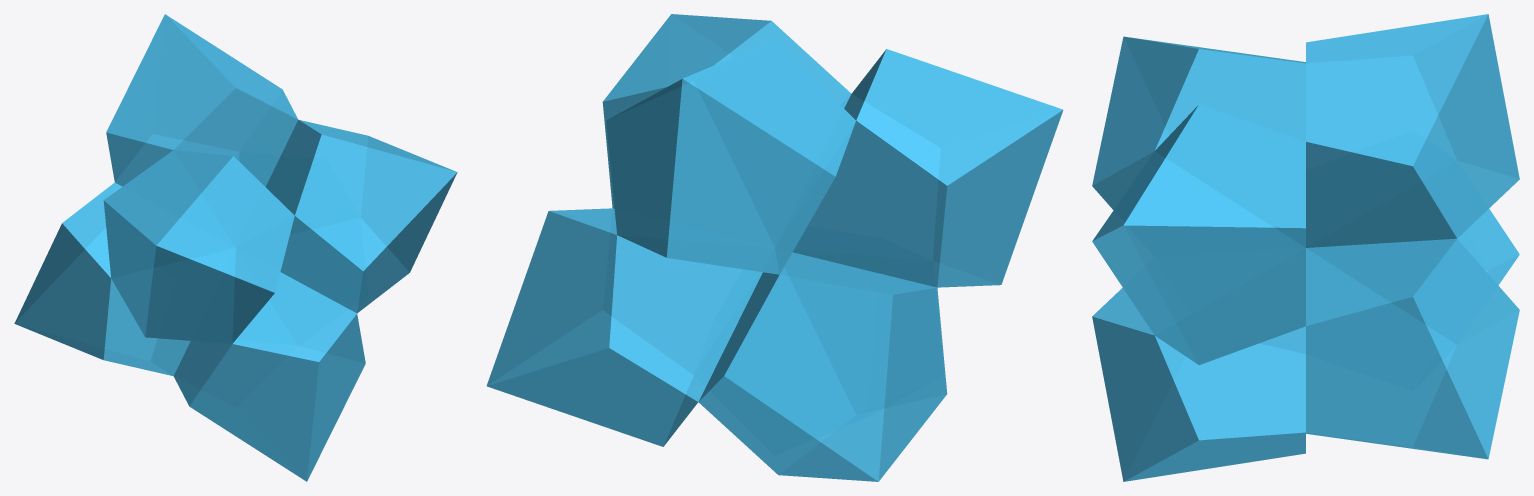
Rendered from Cuboctahedron.obj.
3 renders of one model, left to right at view 1: azimuth 30°, elevation 25°; view 2: azimuth 150°, elevation 25°; view 3: azimuth 270°, elevation 25°, orthographic. The views are drawn at different scales.
Bounding box in the file's own units: 2.41 × 2.79 × 2.31.
